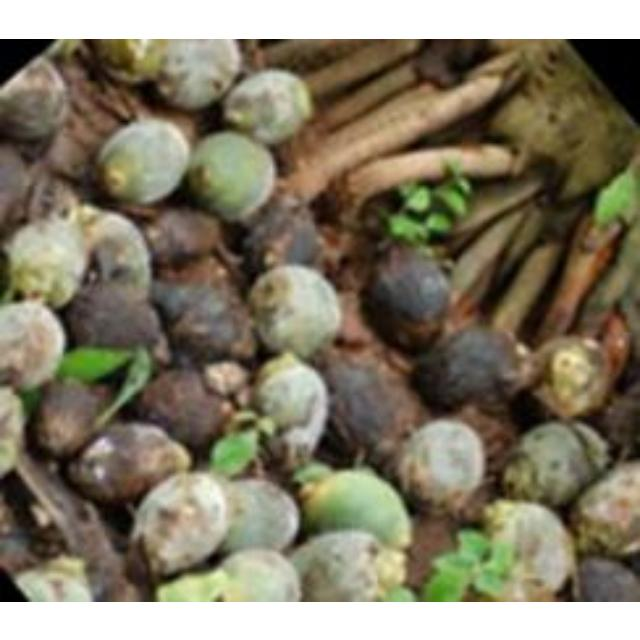damaged: (536, 208, 620, 344), (315, 351, 413, 464), (130, 469, 232, 576), (299, 57, 435, 136), (412, 325, 530, 415), (70, 421, 190, 507), (362, 242, 452, 352), (247, 349, 329, 469), (474, 500, 572, 600), (298, 466, 412, 550), (394, 418, 490, 516), (437, 172, 545, 256), (502, 421, 606, 507), (247, 262, 339, 356), (66, 276, 168, 360), (378, 161, 470, 251), (184, 130, 276, 220), (95, 118, 189, 206), (162, 280, 258, 364), (3, 215, 86, 309), (486, 236, 564, 336), (288, 529, 396, 601), (524, 334, 614, 418), (239, 196, 323, 276), (223, 69, 311, 145), (153, 38, 243, 112), (30, 376, 110, 458), (215, 478, 299, 556), (420, 528, 508, 602), (573, 460, 639, 556), (0, 300, 68, 390), (0, 58, 70, 144), (90, 343, 156, 433), (80, 208, 150, 292), (5, 163, 80, 241), (259, 38, 399, 76), (147, 207, 226, 273), (449, 405, 516, 475), (482, 38, 580, 84), (84, 38, 174, 86), (445, 44, 531, 94), (218, 548, 300, 600), (404, 514, 460, 588), (535, 178, 599, 242), (76, 64, 140, 126), (134, 97, 202, 153), (13, 556, 97, 600), (42, 119, 98, 179), (594, 388, 640, 456), (151, 276, 213, 326), (16, 506, 72, 560), (592, 160, 636, 228), (208, 425, 262, 477), (306, 183, 354, 237), (1, 144, 36, 218), (412, 41, 466, 88), (0, 388, 28, 477), (489, 136, 537, 184), (120, 538, 158, 598), (502, 453, 544, 503), (0, 529, 44, 575), (445, 38, 487, 72), (83, 380, 117, 412), (26, 496, 56, 532), (47, 39, 87, 65), (106, 164, 128, 190)
